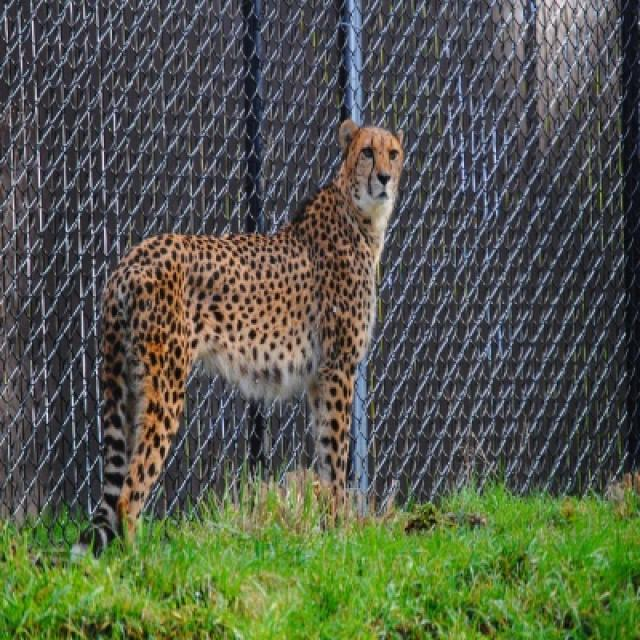Cheetah: (73, 119, 400, 564)
